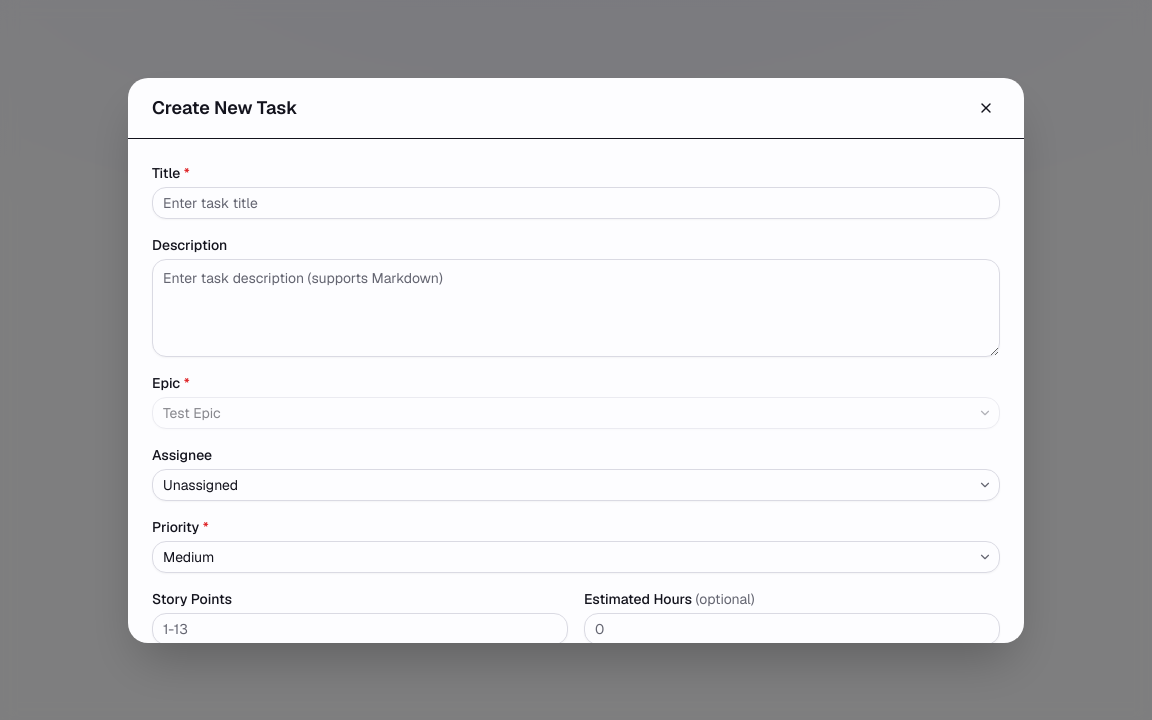
Test: TaskFormModal › Success State › shows success message after successful creation
Type "New Task" into the field labelled "Title *". click: point(576, 202)
box: [152, 186, 1000, 218]
(page scrolled)
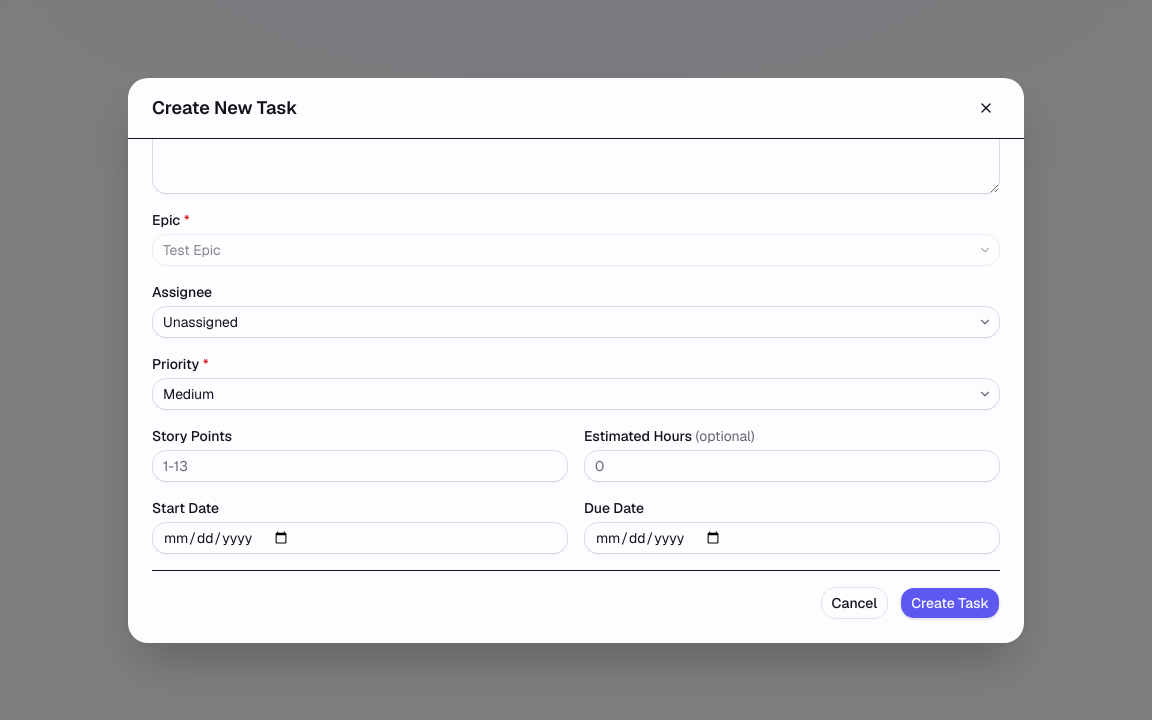
Click the button "Create Task". click: point(950, 602)
box: [900, 586, 1000, 618]
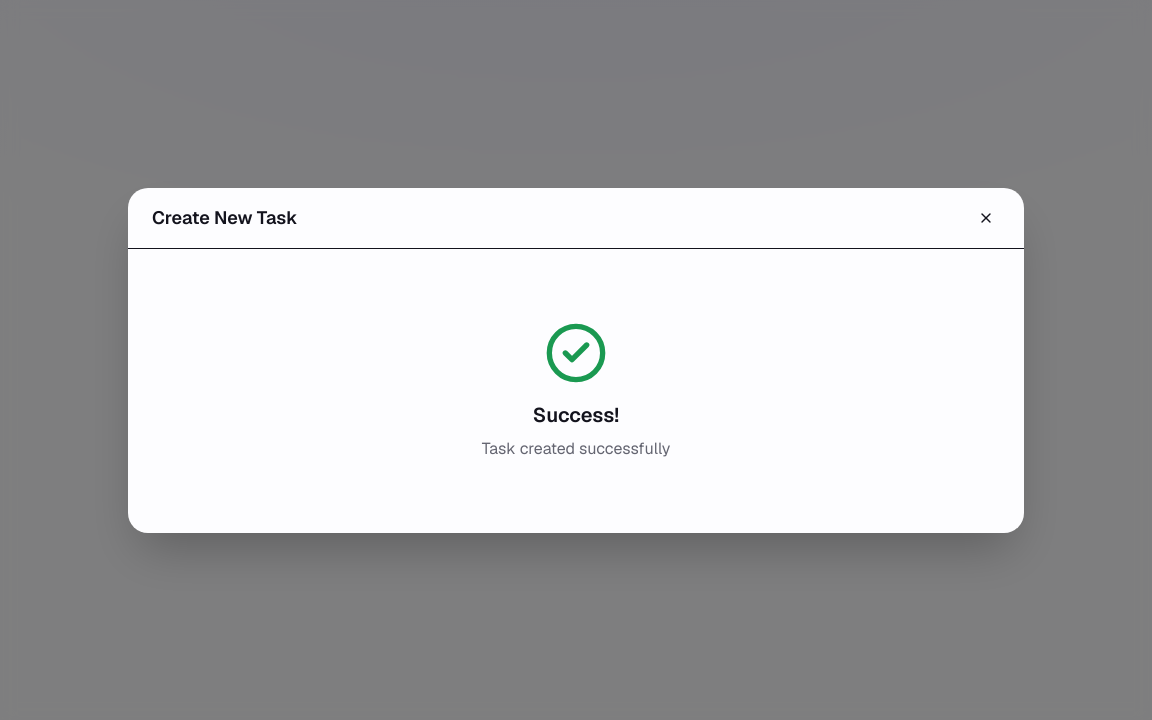
Expected: the heading "Success!" is shown, [533, 400, 619, 428]
Expected: the text "Task created successfully" is shown, [482, 436, 670, 460]
